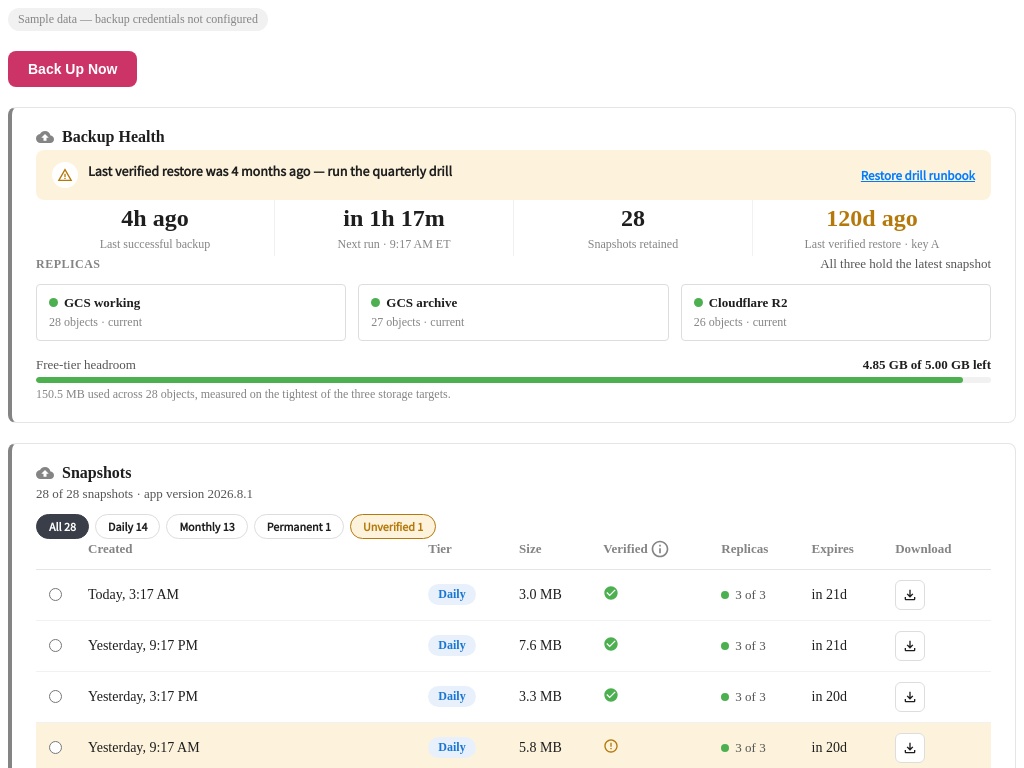
Test: BackupsTab › shows 'Never' for the permanent row's expiry
The width and height of the screenshot is (1024, 768).
Click the button "Permanent 1".
click(299, 526)  # box [254,514,344,539]
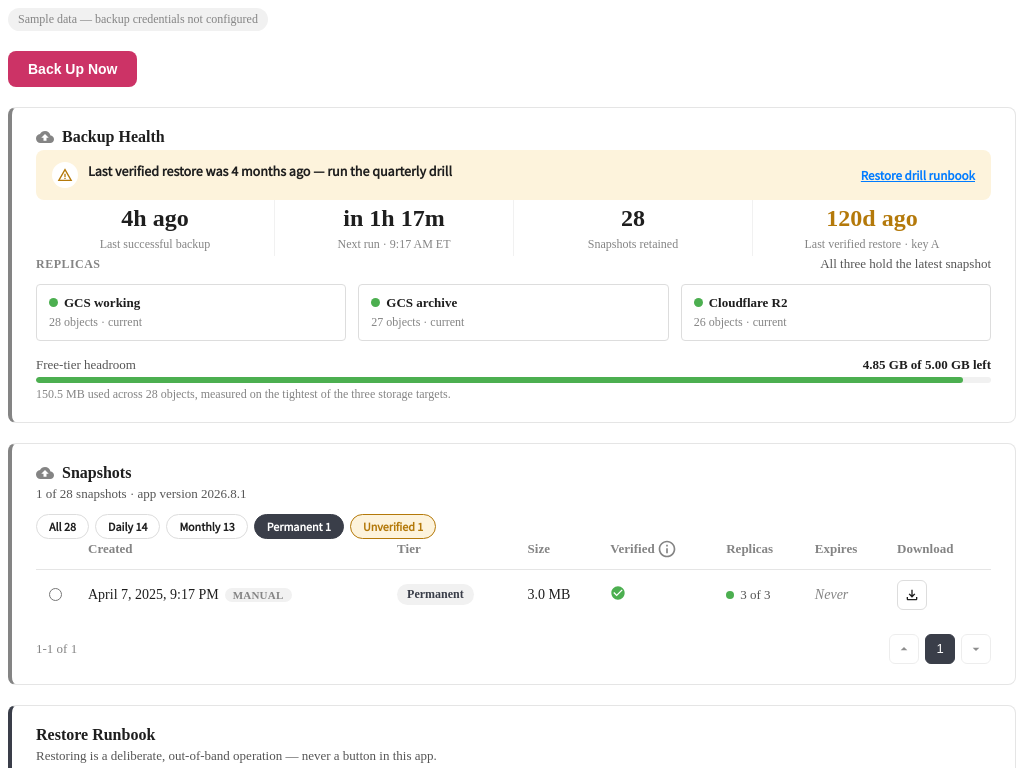
Result: the text "Never" is shown at [815,587,848,602]
